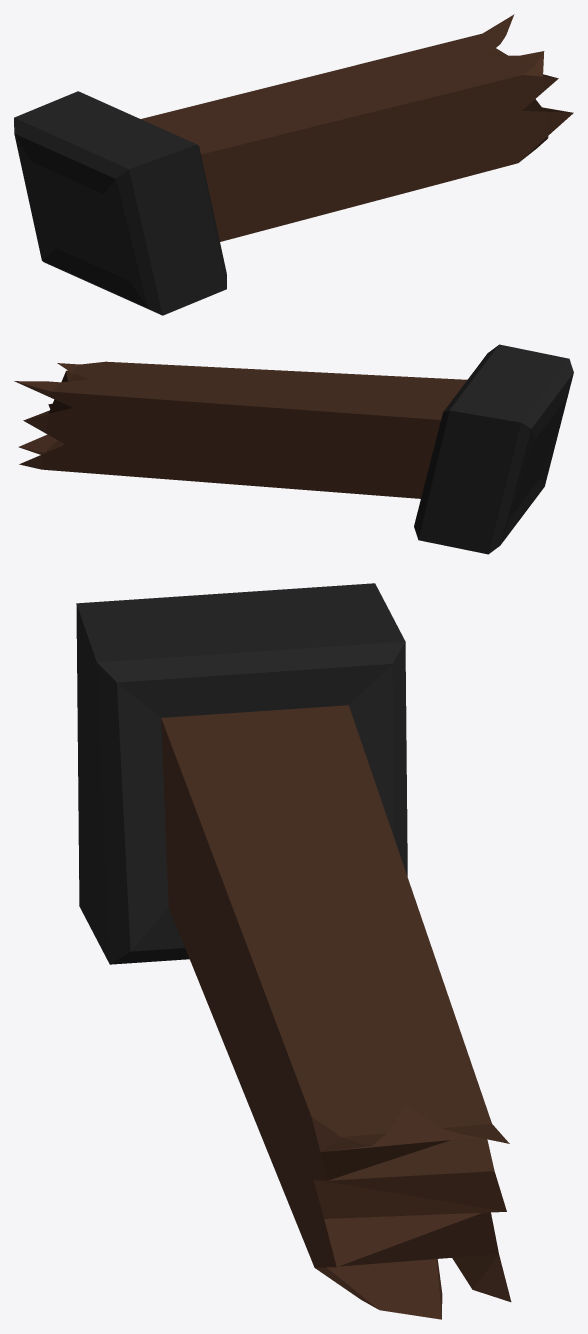
Rendered from WoodenBeamsSplit_02.fbx.
The picture shows the model from 3 angles, top to bottom: view 1: azimuth 30°, elevation 25°; view 2: azimuth 150°, elevation 25°; view 3: azimuth 270°, elevation 25°; orthographic projection. The views are drawn at different scales.
Parts seen in each view (by area): view 1: WoodenBeamsSplit_02; view 2: WoodenBeamsSplit_02; view 3: WoodenBeamsSplit_02.
Part boxes in pixels (<box>): WoodenBeamsSplit_02: <box>14,14,573,315</box>; WoodenBeamsSplit_02: <box>14,344,573,554</box>; WoodenBeamsSplit_02: <box>76,583,511,1319</box>.
Size of the model in its own units: 189 by 51.95 by 72.29.
